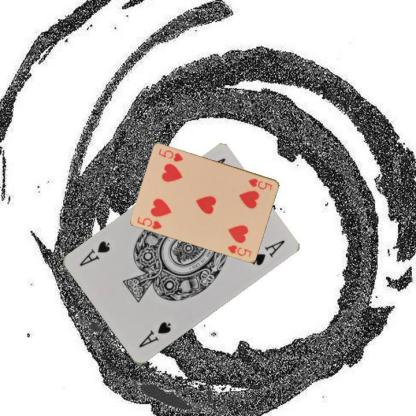5h: (134, 214, 164, 230), (246, 175, 273, 192)
As: (136, 320, 172, 350)
